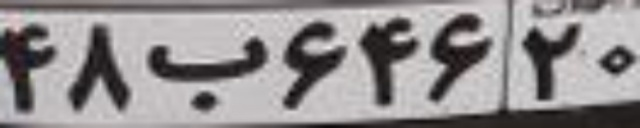0: (594, 43, 639, 77)
2: (522, 19, 580, 101)
4: (358, 15, 421, 106), (1, 21, 59, 115)
6: (278, 20, 348, 108), (431, 12, 490, 102)
8: (68, 22, 131, 115)
be: (141, 36, 269, 112)
